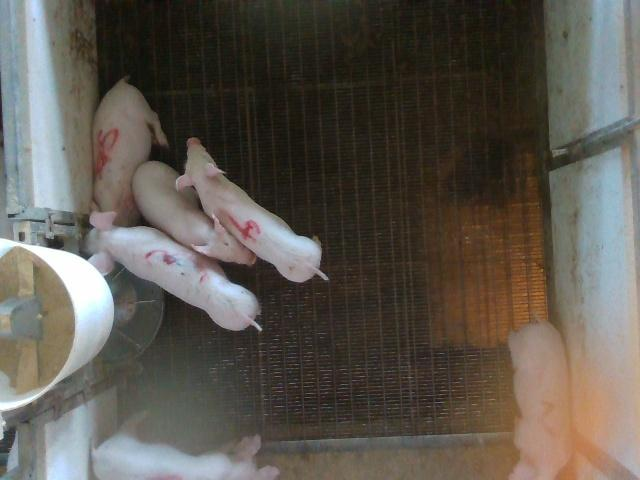pig-1: (91, 429, 279, 479)
pig-2: (509, 321, 571, 478)
pig-3: (85, 211, 261, 330)
pig-4: (176, 138, 329, 282)
pig-5: (94, 76, 168, 226)
